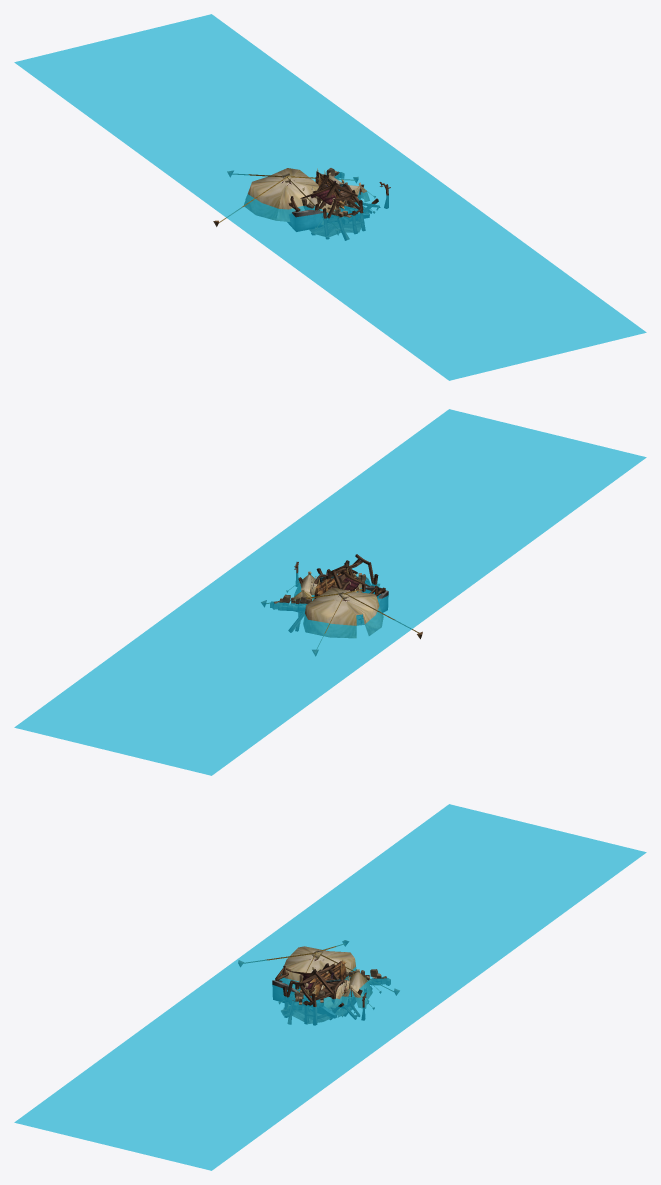
The model's file is RenGongN.fbx.
3 views of the same model, one above another, from view 1: azimuth 30°, elevation 25°; view 2: azimuth 150°, elevation 25°; view 3: azimuth 330°, elevation 25° (orthographic).
Visible parts, largest first — view 1: RenGongN10, RenGongN020, RenGongN12, RenGongN11; view 2: RenGongN10, RenGongN020, RenGongN12, RenGongN11, RenGongN17; view 3: RenGongN10, RenGongN020, RenGongN12, RenGongN11, RenGongN05, RenGongN17.
Boxes of the visible parts, box(x1,y1,x2,y2) form: RenGongN10: box(14, 14, 646, 380); RenGongN020: box(213, 168, 358, 235); RenGongN12: box(310, 174, 378, 240); RenGongN11: box(287, 182, 390, 231); RenGongN10: box(14, 409, 646, 775); RenGongN020: box(261, 584, 422, 656); RenGongN12: box(288, 554, 378, 632); RenGongN11: box(294, 562, 388, 623); RenGongN17: box(270, 573, 367, 611); RenGongN10: box(14, 804, 646, 1170); RenGongN020: box(238, 940, 399, 1015); RenGongN12: box(282, 963, 372, 1025); RenGongN11: box(272, 965, 366, 1020); RenGongN05: box(278, 967, 381, 1009); RenGongN17: box(293, 969, 390, 1009).
Bounding box in the file's own units: 106 × 24.16 × 392.
